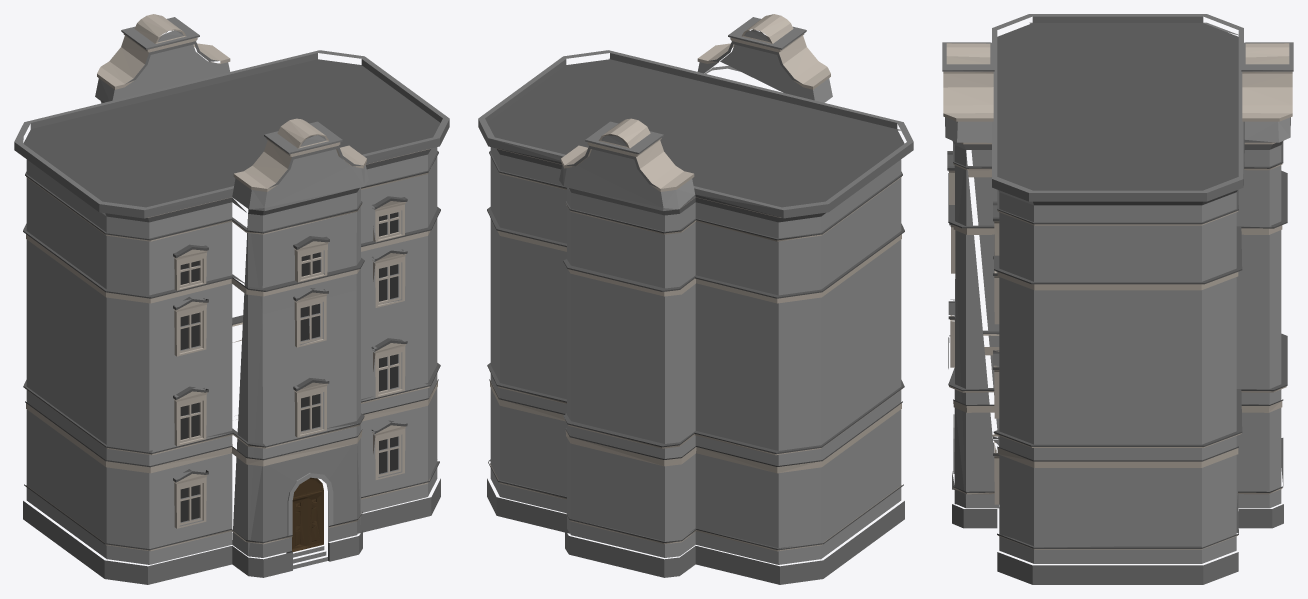
Rendered from city-manor.glb.
The picture shows the model from 3 angles, left to right: view 1: azimuth 30°, elevation 25°; view 2: azimuth 150°, elevation 25°; view 3: azimuth 270°, elevation 25°; orthographic projection. The views are drawn at different scales.
Visible parts, largest first — view 1: Building4_Cube.001; view 2: Building4_Cube.001; view 3: Building4_Cube.001.
Part boxes in pixels (x1=…): Building4_Cube.001: x1=14, y1=14, x2=449, y2=584; Building4_Cube.001: x1=478, y1=14, x2=913, y2=584; Building4_Cube.001: x1=942, y1=14, x2=1293, y2=584.
Bounding box in the file's own units: 10.22 × 12.07 × 8.48.
